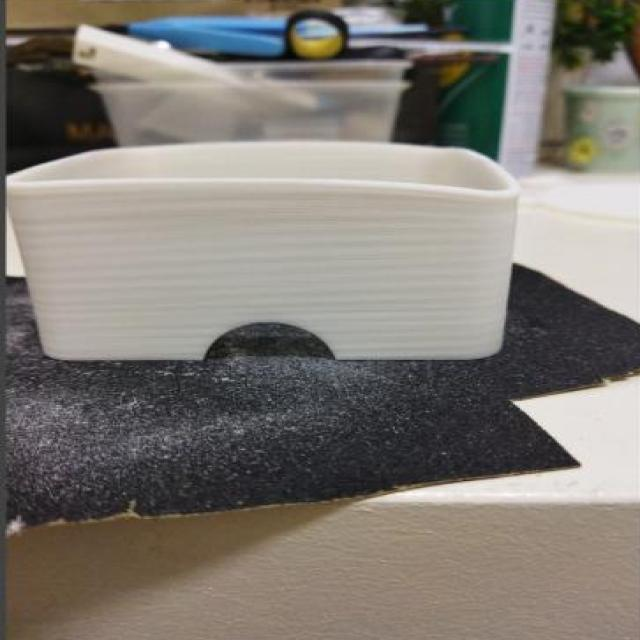warping: (391, 176, 519, 207)
